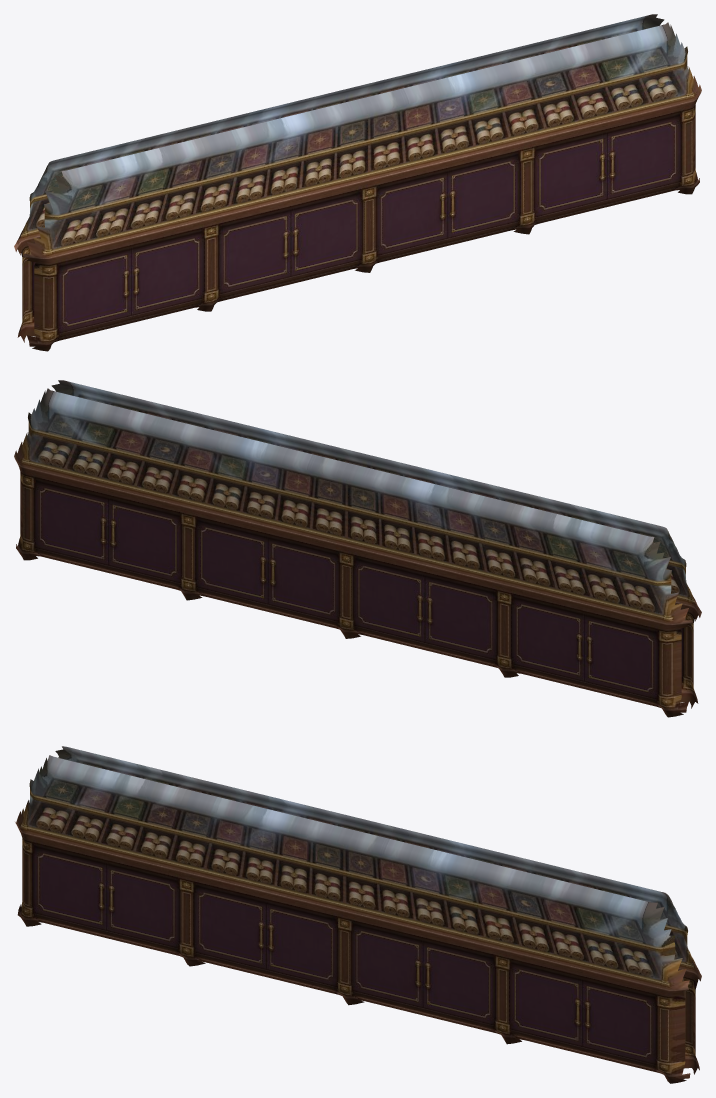
File: v4-arcane-emporium-scatter-display-island.glb
3 views of the same model, one above another, from view 1: azimuth 30°, elevation 25°; view 2: azimuth 150°, elevation 25°; view 3: azimuth 330°, elevation 25° (orthographic).
Parts seen in each view (by area): view 1: v4-arcane-emporium-scatter-display-island; view 2: v4-arcane-emporium-scatter-display-island; view 3: v4-arcane-emporium-scatter-display-island.
Part boxes in pixels (left/top/right/bottom): v4-arcane-emporium-scatter-display-island: left=14, top=14, right=701, bottom=351; v4-arcane-emporium-scatter-display-island: left=14, top=380, right=701, bottom=717; v4-arcane-emporium-scatter-display-island: left=15, top=746, right=701, bottom=1083.
Size of the model in its own units: 3.79 by 0.925 by 0.24.
1 material, 1 textured.
